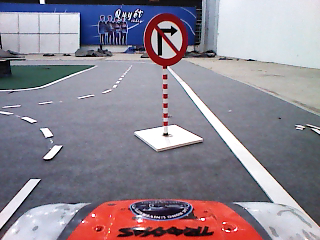ban: (144, 13, 190, 66)
